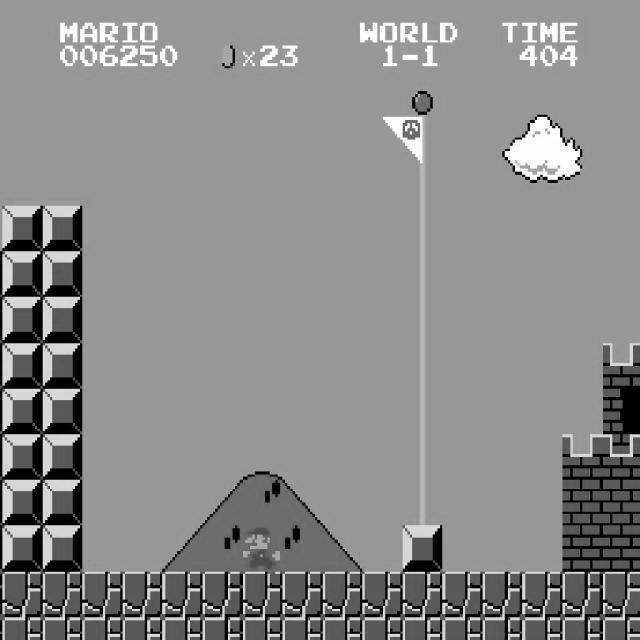11- little_mario: (237, 526, 280, 574)
17- undestructible_block: (2, 572, 43, 618), (42, 572, 83, 618), (82, 572, 123, 618), (122, 572, 163, 618), (162, 572, 203, 618), (202, 572, 243, 618), (242, 572, 283, 618), (282, 572, 323, 618), (322, 572, 363, 618), (362, 572, 403, 618), (402, 572, 443, 618), (442, 572, 483, 618), (482, 572, 523, 618), (522, 572, 563, 618), (562, 572, 603, 618), (603, 572, 640, 618), (2, 617, 43, 640), (42, 617, 83, 640), (82, 617, 123, 640), (122, 617, 163, 640), (162, 617, 203, 640), (202, 617, 243, 640), (242, 617, 283, 640), (282, 617, 323, 640), (322, 617, 363, 640), (362, 617, 403, 640), (402, 617, 443, 640), (442, 617, 483, 640), (482, 617, 523, 640), (522, 617, 563, 640), (562, 617, 603, 640), (603, 617, 640, 640), (0, 571, 2, 617), (0, 617, 2, 639)
7- goal_pole: (402, 68, 443, 114), (402, 114, 443, 160), (402, 160, 443, 206), (402, 252, 443, 298), (402, 297, 443, 343), (402, 388, 443, 434), (402, 434, 443, 480), (402, 480, 443, 526), (402, 206, 443, 251), (402, 343, 443, 388)
9- hard_block: (2, 252, 43, 298), (2, 297, 43, 343), (2, 388, 43, 434), (2, 434, 43, 480), (2, 480, 43, 526), (2, 526, 43, 572), (42, 252, 83, 298), (42, 297, 83, 343), (42, 388, 83, 434), (42, 434, 83, 480), (42, 480, 83, 526), (42, 526, 83, 572), (402, 526, 443, 572), (2, 206, 43, 251), (2, 343, 43, 388), (42, 206, 83, 251), (42, 343, 83, 388), (0, 251, 2, 297), (0, 342, 2, 388), (0, 388, 2, 434), (0, 525, 2, 571), (0, 297, 2, 342), (0, 434, 2, 479), (0, 480, 2, 525)
